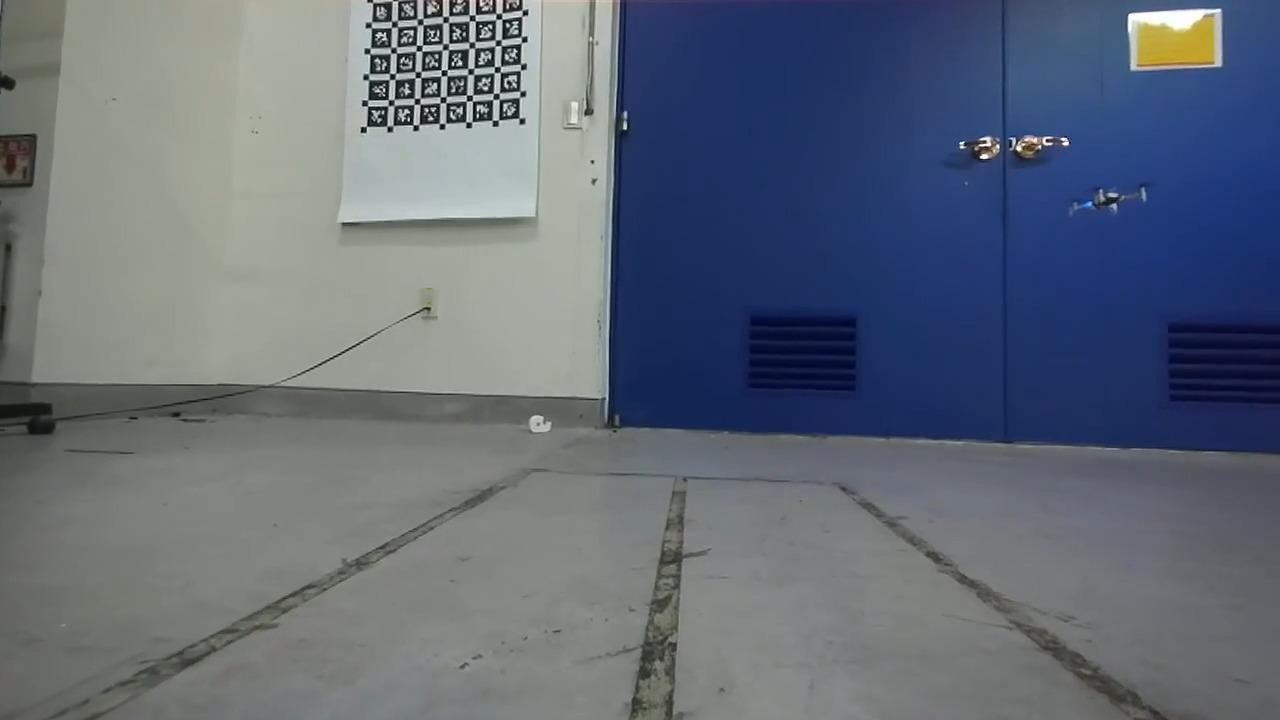crazyflie: (1066, 180, 1151, 219)
